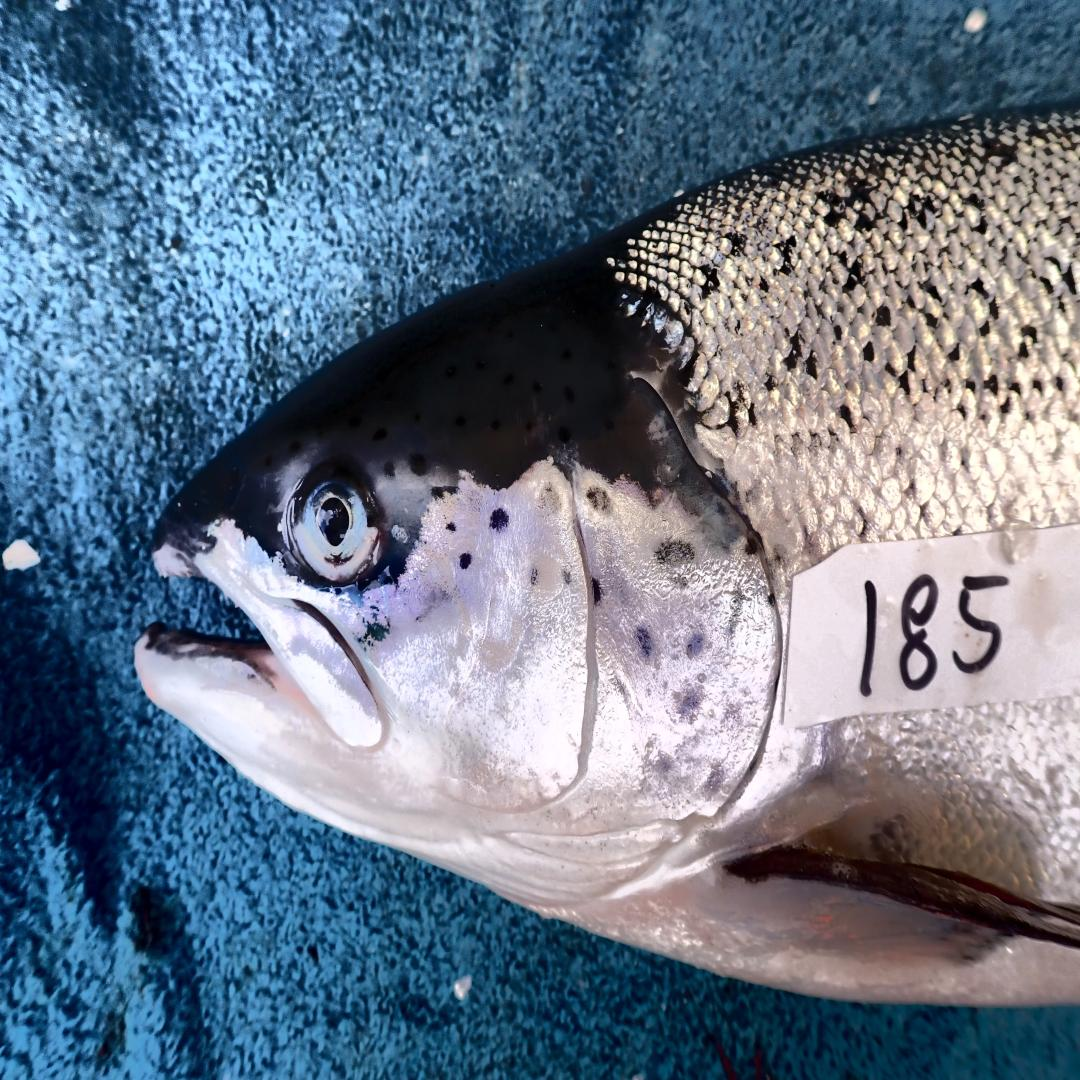spot: (656, 540, 694, 565), (724, 584, 742, 636), (538, 484, 563, 521), (676, 687, 702, 717), (635, 624, 654, 658), (704, 766, 723, 798), (586, 487, 610, 512), (489, 506, 508, 532), (686, 633, 705, 655), (656, 756, 673, 780), (591, 577, 601, 605), (745, 536, 758, 555), (460, 551, 472, 568), (529, 565, 538, 585), (561, 569, 572, 582), (445, 523, 456, 532), (768, 593, 775, 606)
